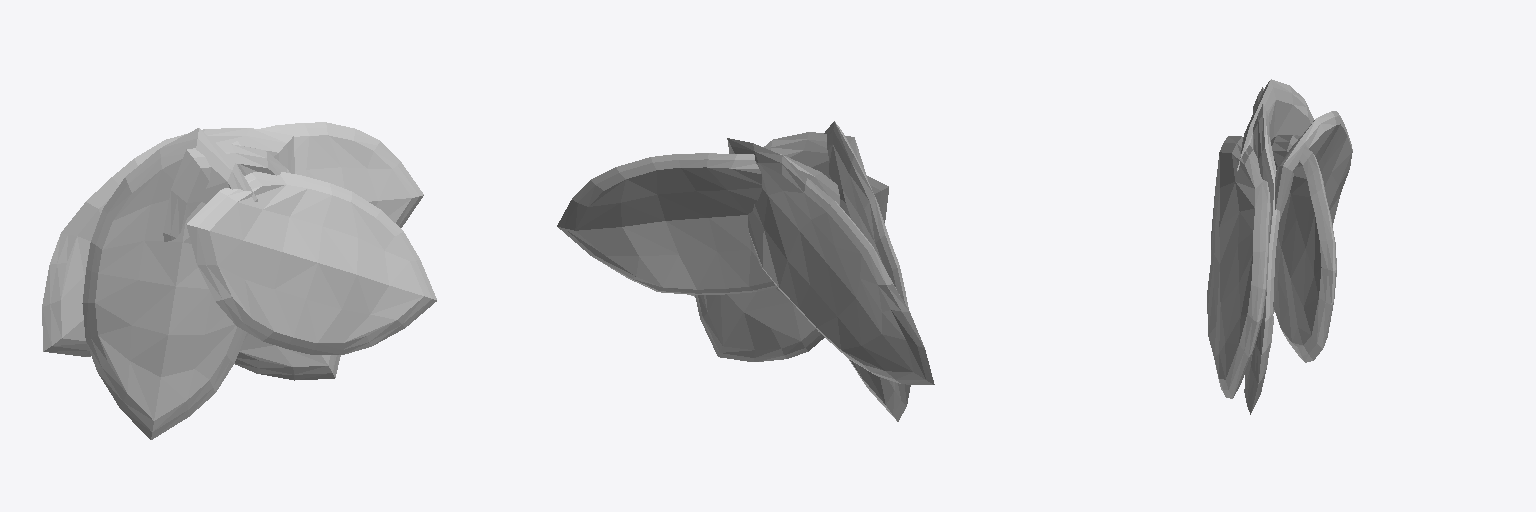
The model's file is leaf.obj.
3 renders of one model, left to right at view 1: azimuth 30°, elevation 25°; view 2: azimuth 150°, elevation 25°; view 3: azimuth 270°, elevation 25°, orthographic.
Visible parts, largest first — view 1: group1 pCube5, group1 pCube4, group1 pCube2, group1 pCube3, pCube1 group1; view 2: group1 pCube3, group1 pCube2, pCube1 group1, group1 pCube4; view 3: group1 pCube5, group1 pCube3, group1 pCube2, pCube1 group1, group1 pCube4.
Boxes of the visible parts, box(x1,y1,x2,y2) form: group1 pCube5: box(186, 172, 436, 354); group1 pCube4: box(82, 128, 257, 439); group1 pCube2: box(42, 128, 294, 356); group1 pCube3: box(232, 122, 423, 227); pCube1 group1: box(163, 144, 340, 380); group1 pCube3: box(557, 153, 839, 294); group1 pCube2: box(727, 138, 934, 384); pCube1 group1: box(695, 132, 867, 361); group1 pCube4: box(824, 121, 910, 421); group1 pCube5: box(1207, 136, 1270, 398); group1 pCube3: box(1271, 135, 1336, 362); group1 pCube2: box(1275, 111, 1352, 224); pCube1 group1: box(1244, 87, 1279, 414); group1 pCube4: box(1237, 79, 1313, 313).
Bounding box in the file's own units: 9.7 × 7.17 × 3.22.